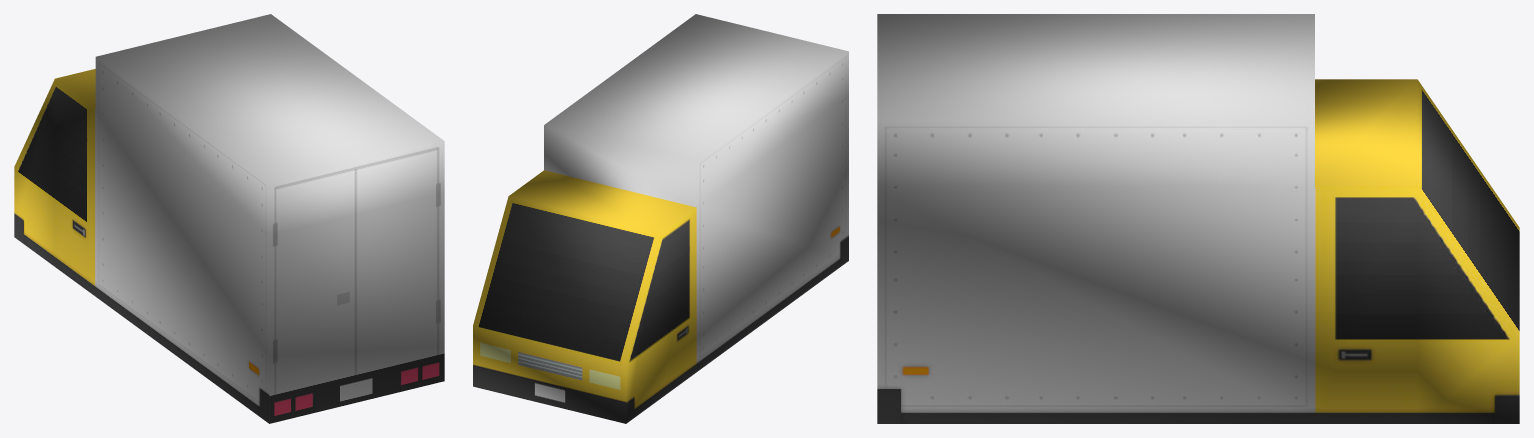
Rendered from carbody.glb.
The picture shows the model from 3 angles, left to right: view 1: azimuth 30°, elevation 25°; view 2: azimuth 150°, elevation 25°; view 3: azimuth 270°, elevation 25°; orthographic projection. The views are drawn at different scales.
Parts seen in each view (by area): view 1: carbody; view 2: carbody; view 3: carbody.
Part boxes in pixels (x1=…): carbody: x1=14, y1=14, x2=444, y2=423; carbody: x1=473, y1=14, x2=848, y2=423; carbody: x1=877, y1=14, x2=1519, y2=423.
Size of the model in its own units: 1.44 by 1.88 by 3.62.
1 material, 1 textured.
